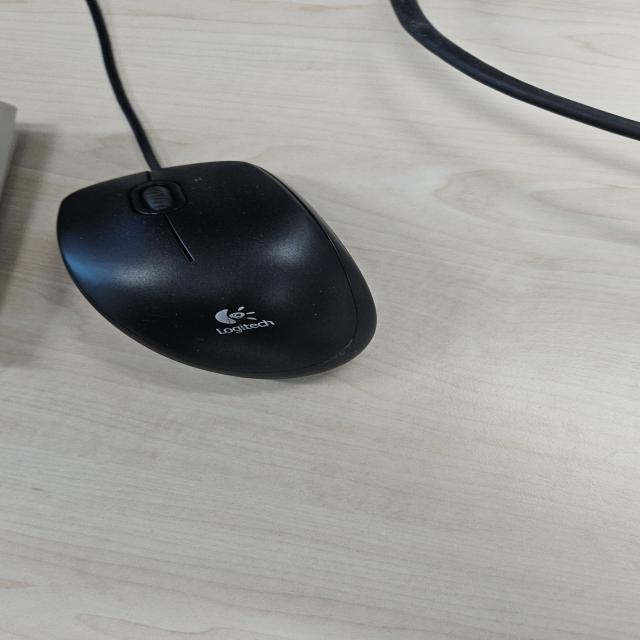Mouse: (54, 160, 380, 380)
